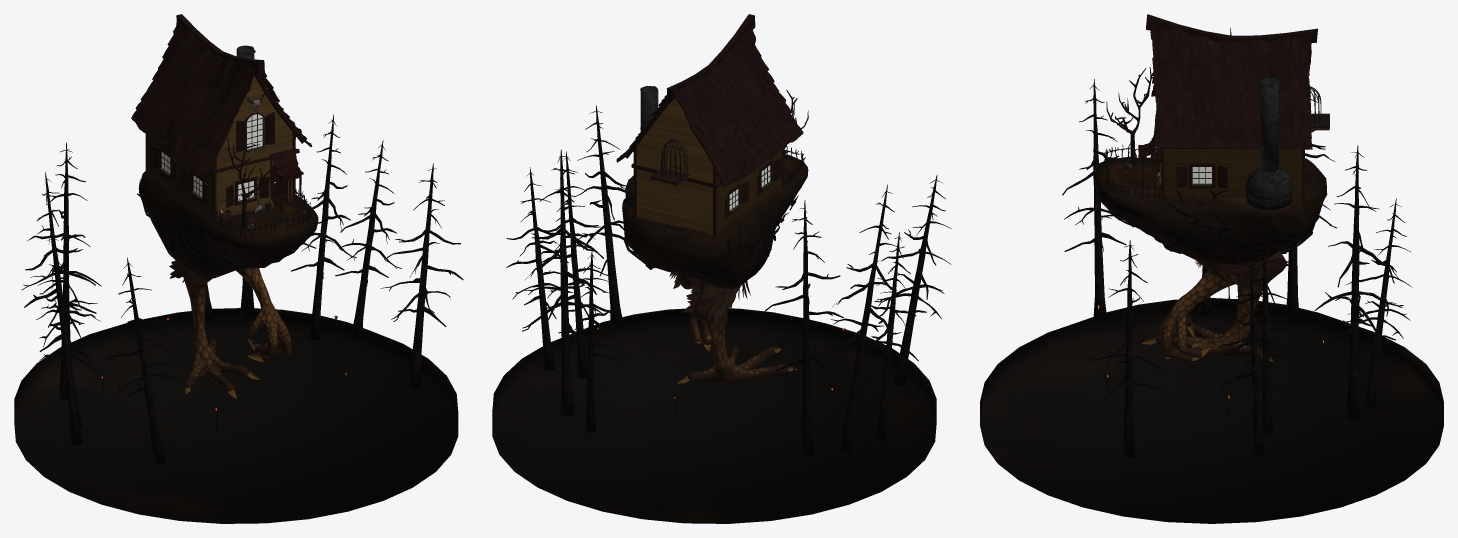
Rendered from the_hut_on_fowls_legs.glb.
The picture shows the model from 3 angles, left to right: view 1: azimuth 30°, elevation 25°; view 2: azimuth 150°, elevation 25°; view 3: azimuth 270°, elevation 25°; orthographic projection. The views are drawn at different scales.
Parts seen in each view (by area): view 1: Sphere.001, Cube.063, newdirt, Cube.318, Plane.174, Cylinder, Cylinder.033, Plane.175, Cylinder.032, Cylinder.040, Cylinder.029, Cylinder.031 (+10 smaller); view 2: Sphere.001, Cube.063, Cube.318, newdirt, Cylinder.030, Plane.174, Cylinder.031, Cylinder.034, Cylinder.033, Cylinder, Cylinder.032, Cylinder.035 (+10 smaller); view 3: Sphere.001, Cube.063, newdirt, Cube.318, Cylinder.030, Circle.004, Plane.175, Plane.174, Cylinder, Cylinder.033, Plane.196, Cylinder.040 (+8 smaller).
Part boxes in pixels (<box>): Sphere.001: <box>14,308,458,523</box>; Cube.063: <box>131,20,312,175</box>; newdirt: <box>139,171,318,278</box>; Cube.318: <box>145,75,299,221</box>; Plane.174: <box>183,260,249,392</box>; Cylinder: <box>380,163,463,388</box>; Cylinder.033: <box>104,257,187,465</box>; Plane.175: <box>236,268,291,362</box>; Cylinder.032: <box>36,233,102,445</box>; Cylinder.040: <box>291,114,356,340</box>; Cylinder.029: <box>335,140,401,338</box>; Cylinder.031: <box>21,142,101,399</box>; Sphere.001: <box>492,308,936,523</box>; Cube.063: <box>616,26,803,187</box>; Cube.318: <box>631,99,783,237</box>; newdirt: <box>622,154,808,288</box>; Cylinder.030: <box>522,149,602,416</box>; Plane.174: <box>688,281,788,384</box>; Cylinder.031: <box>765,200,843,456</box>; Cylinder.034: <box>821,184,897,452</box>; Cylinder.033: <box>874,174,951,386</box>; Cylinder: <box>574,105,625,329</box>; Cylinder.032: <box>851,232,918,440</box>; Cylinder.035: <box>558,250,628,433</box>; Sphere.001: <box>980,298,1443,523</box>; Cube.063: <box>1150,25,1312,149</box>; newdirt: <box>1094,156,1327,264</box>; Cube.318: <box>1160,75,1304,200</box>; Cylinder.030: <box>1314,145,1403,421</box>; Circle.004: <box>1245,77,1293,210</box>; Plane.175: <box>1160,260,1254,362</box>; Plane.174: <box>1155,251,1286,359</box>; Cylinder: <box>1084,240,1165,458</box>; Cylinder.033: <box>1062,79,1133,321</box>; Plane.196: <box>1099,188,1319,267</box>; Cylinder.040: <box>1225,212,1294,433</box>.
Size of the model in its own units: 3013 by 2901 by 2988.
Materials: 58 (28 with a texture image).
